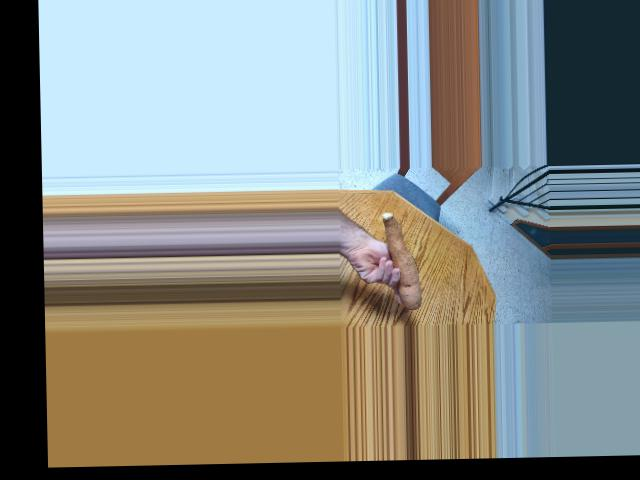sweet_potato: (378, 209, 425, 308)
